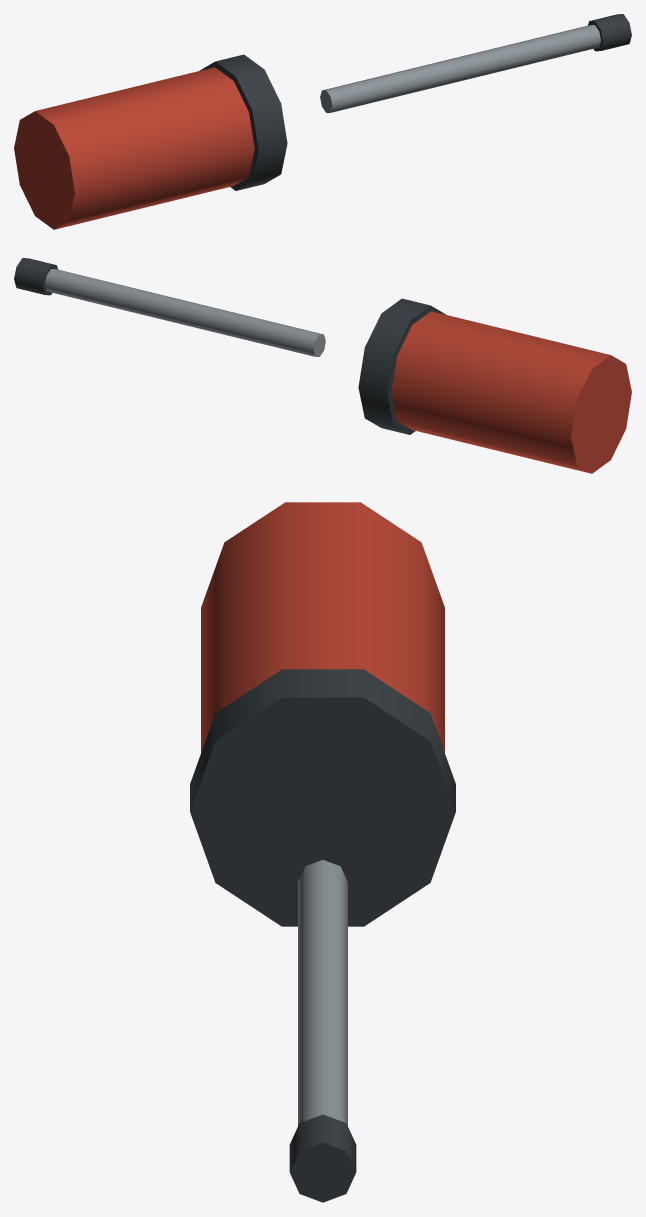
Rendered from screwdriver.glb.
3 views of the same model, one above another, from view 1: azimuth 30°, elevation 25°; view 2: azimuth 150°, elevation 25°; view 3: azimuth 270°, elevation 25° (orthographic). The views are drawn at different scales.
Visible parts, largest first — view 1: screwdriver; view 2: screwdriver; view 3: screwdriver.
Part boxes in pixels (x1,y1,x2,y2): screwdriver: (14,14,631,229); screwdriver: (14,258,631,473); screwdriver: (190,502,455,1202).
Size of the model in its own units: 0.2415 by 0.0457 by 0.048.
